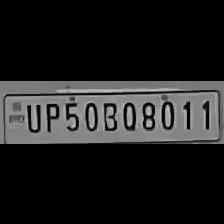0: (80, 97, 100, 131), (156, 96, 176, 128)
1: (177, 96, 195, 130), (196, 96, 214, 128)
5: (60, 96, 80, 132)
8: (138, 97, 156, 131)
B: (99, 96, 119, 132)
P: (42, 98, 62, 132)
Q: (118, 97, 138, 131)
U: (22, 100, 42, 132)
